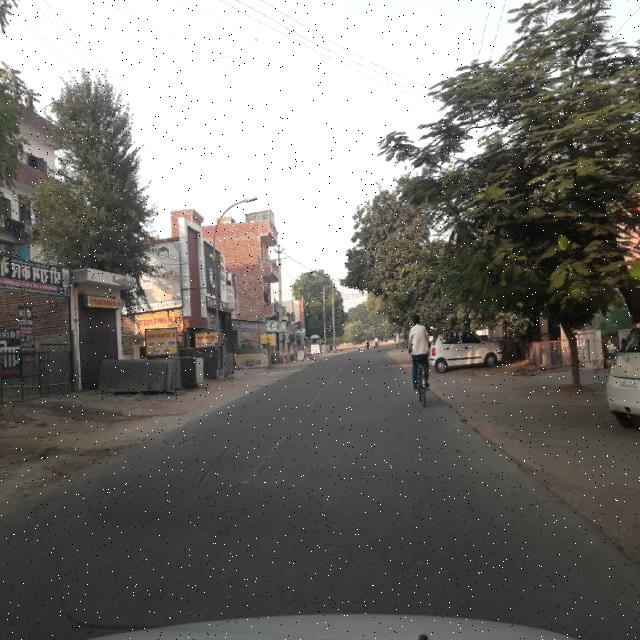D00: (190, 432, 228, 491)
D44: (240, 425, 293, 489)
